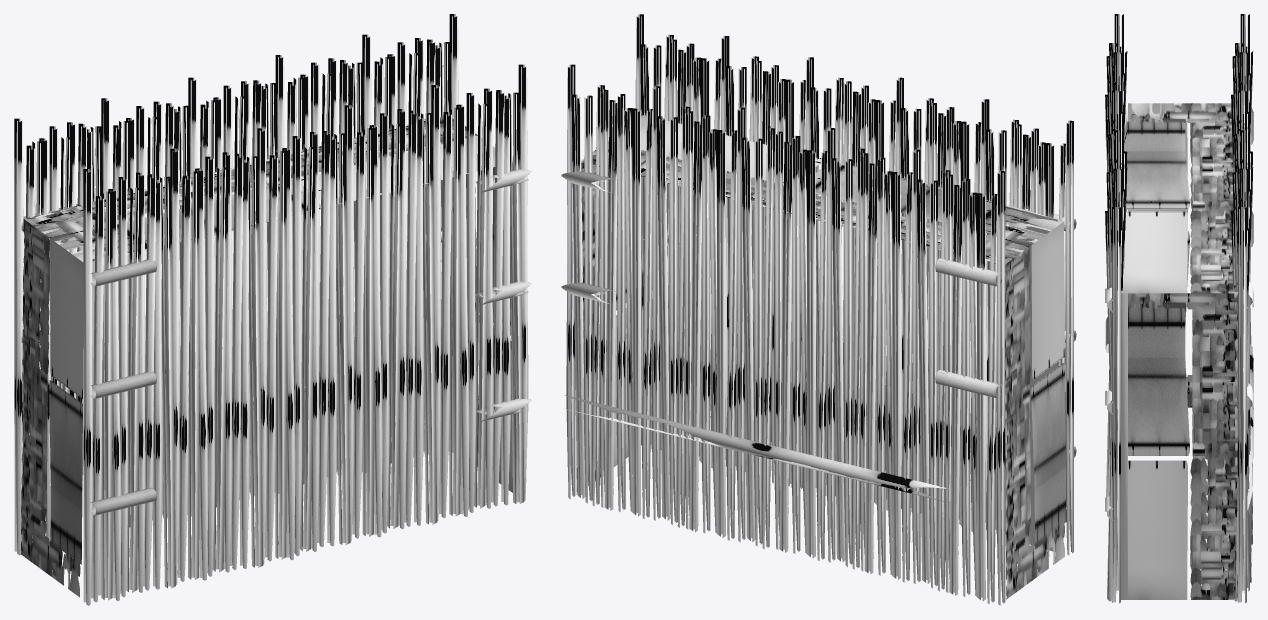
File: wall_short.dae
3 views of the same model, side by side, from view 1: azimuth 30°, elevation 25°; view 2: azimuth 150°, elevation 25°; view 3: azimuth 270°, elevation 25° (orthographic). The views are drawn at different scales.
Visible parts, largest first — view 1: wall_short; view 2: wall_short; view 3: wall_short.
Part boxes in pixels (left/top/right/bottom): wall_short: left=14, top=14, right=531, bottom=605; wall_short: left=561, top=14, right=1076, bottom=605; wall_short: left=1105, top=14, right=1253, bottom=603.
Bounding box in the file's own units: 17.72 × 5.66 × 16.6.
Materials: 1 (1 with a texture image).
